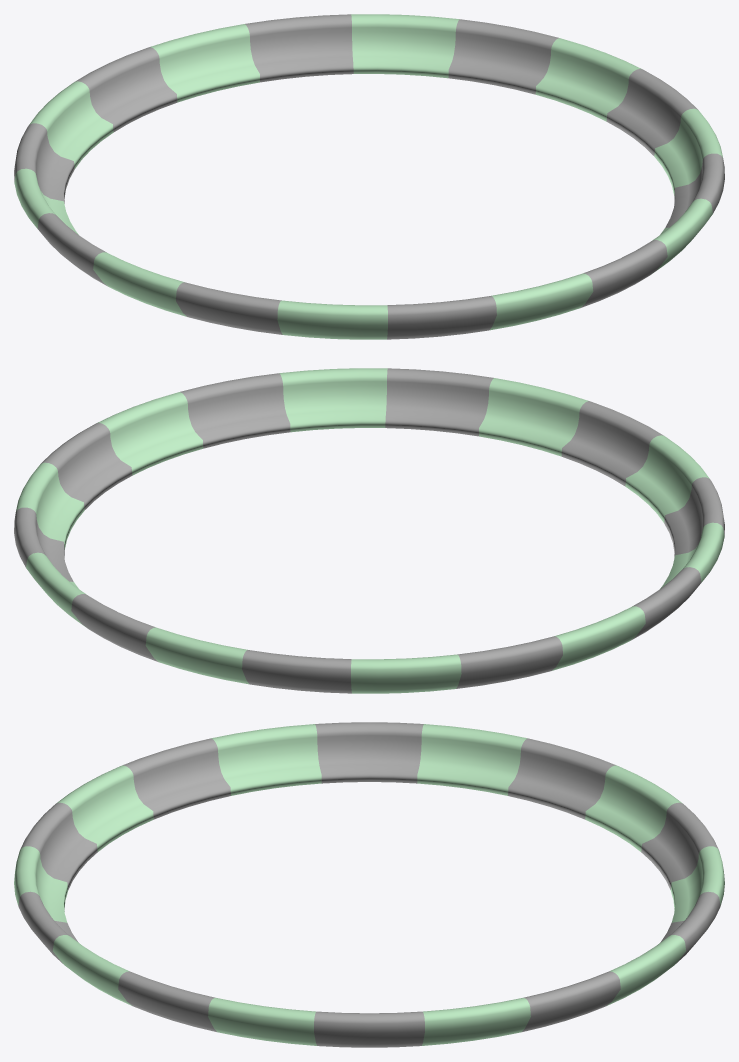
Rendered from Roulette_Edge_02.fbx.
3 views of the same model, one above another, from view 1: azimuth 30°, elevation 25°; view 2: azimuth 150°, elevation 25°; view 3: azimuth 270°, elevation 25° (orthographic).
Visible parts, largest first — view 1: Roulette_Edge02; view 2: Roulette_Edge02; view 3: Roulette_Edge02.
Part boxes in pixels (x1,y1,x2,y2): Roulette_Edge02: (14, 14, 724, 339); Roulette_Edge02: (14, 368, 724, 693); Roulette_Edge02: (14, 722, 724, 1047).
Size of the model in its own units: 4395 by 285 by 4395.
